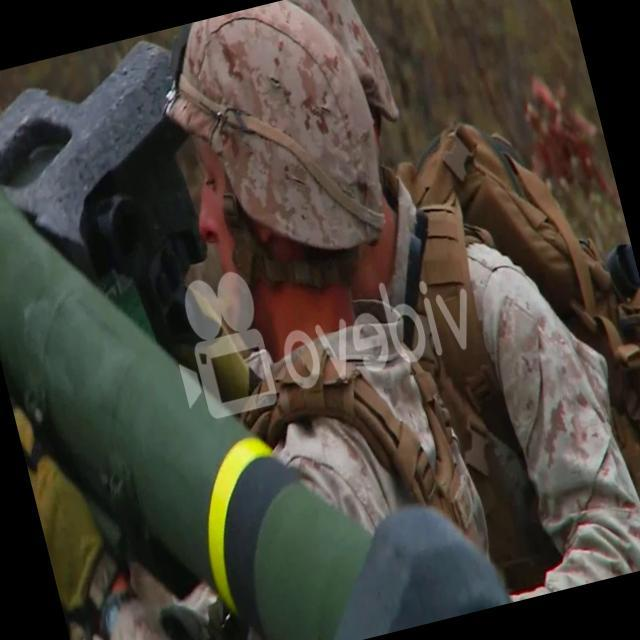rocket: (0, 56, 508, 640)
